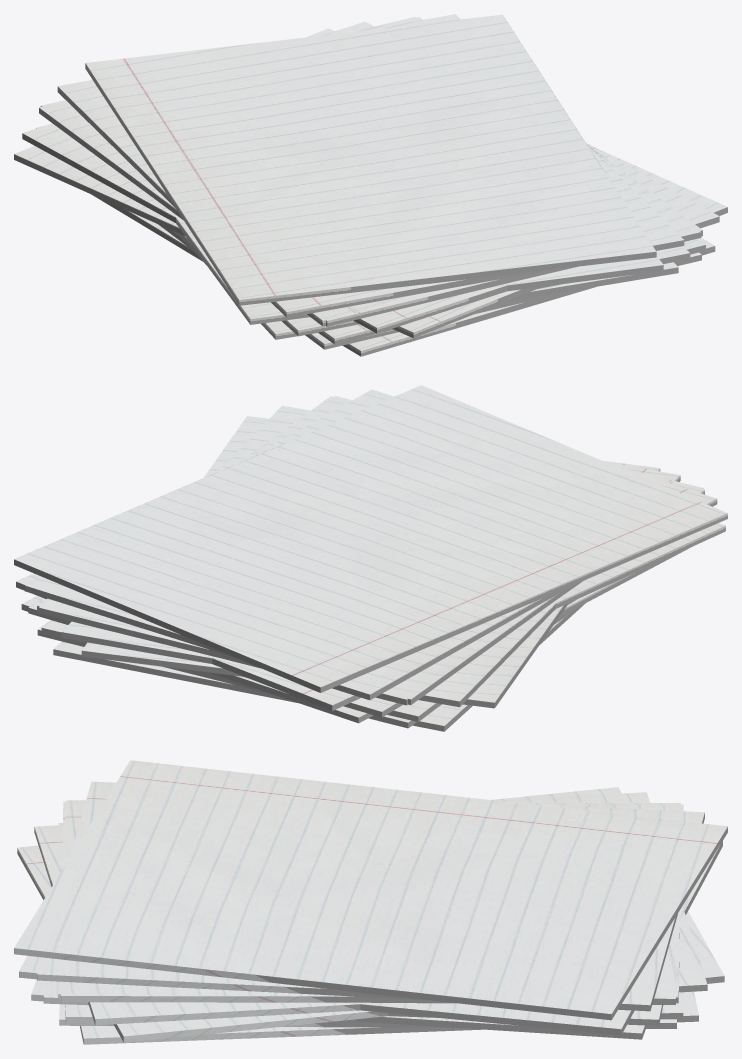
The model's file is stackPapierDesordre.fbx.
The picture shows the model from 3 angles, top to bottom: view 1: azimuth 30°, elevation 25°; view 2: azimuth 150°, elevation 25°; view 3: azimuth 270°, elevation 25°; orthographic projection. The views are drawn at different scales.
Visible parts, largest first — view 1: Pile_Large_Papier_Desorde; view 2: Pile_Large_Papier_Desorde; view 3: Pile_Large_Papier_Desorde.
Part boxes in pixels (bbox=[...]): Pile_Large_Papier_Desorde: bbox=[14, 14, 727, 356]; Pile_Large_Papier_Desorde: bbox=[14, 385, 727, 731]; Pile_Large_Papier_Desorde: bbox=[14, 760, 727, 1044].
Size of the model in its own units: 67.63 by 6.11 by 80.34.
